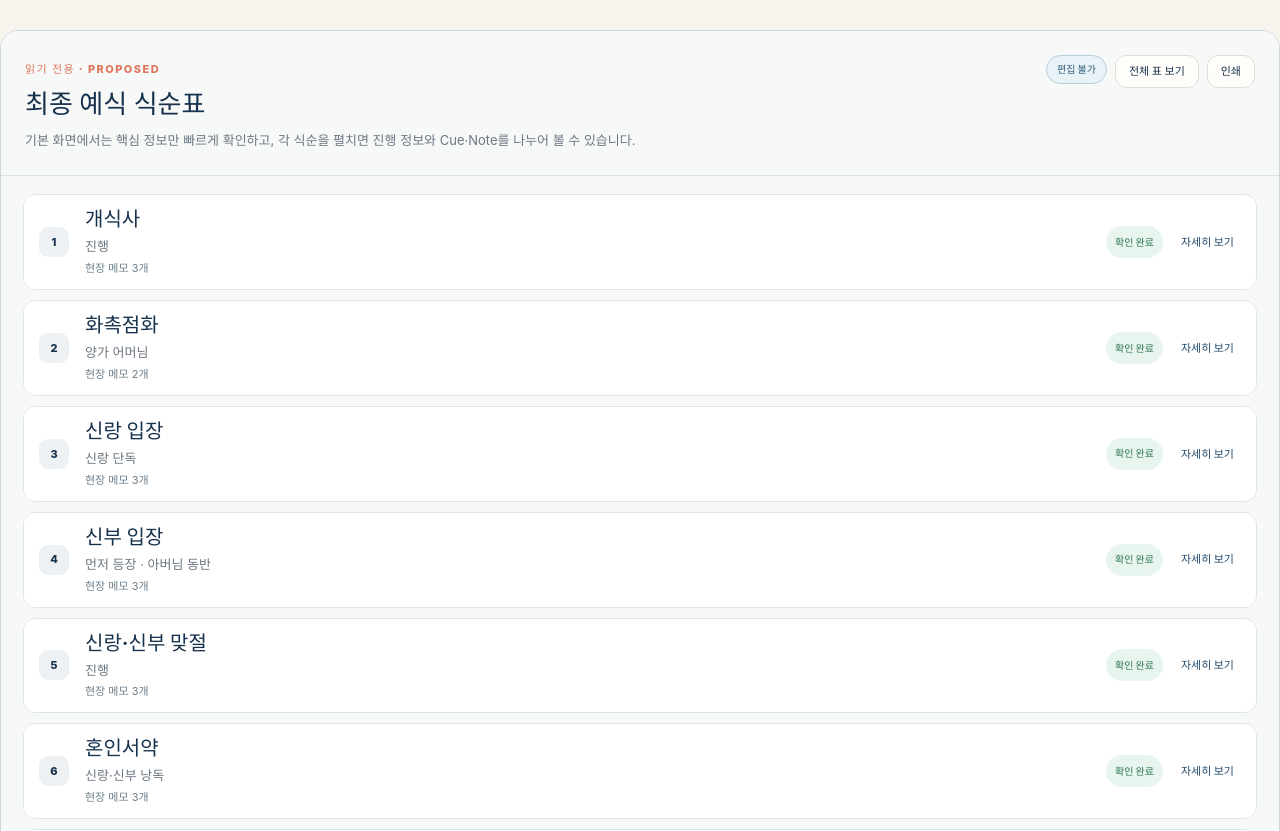
Test: FinalCeremonySheet › 혼인서약과 성혼선언의 진행 주체를 Projection과 같은 값으로 표시한다
The width and height of the screenshot is (1280, 831).
Click the button "전체 표 보기" at (1157,71), box [1115,55,1199,88]
(page scrolled)
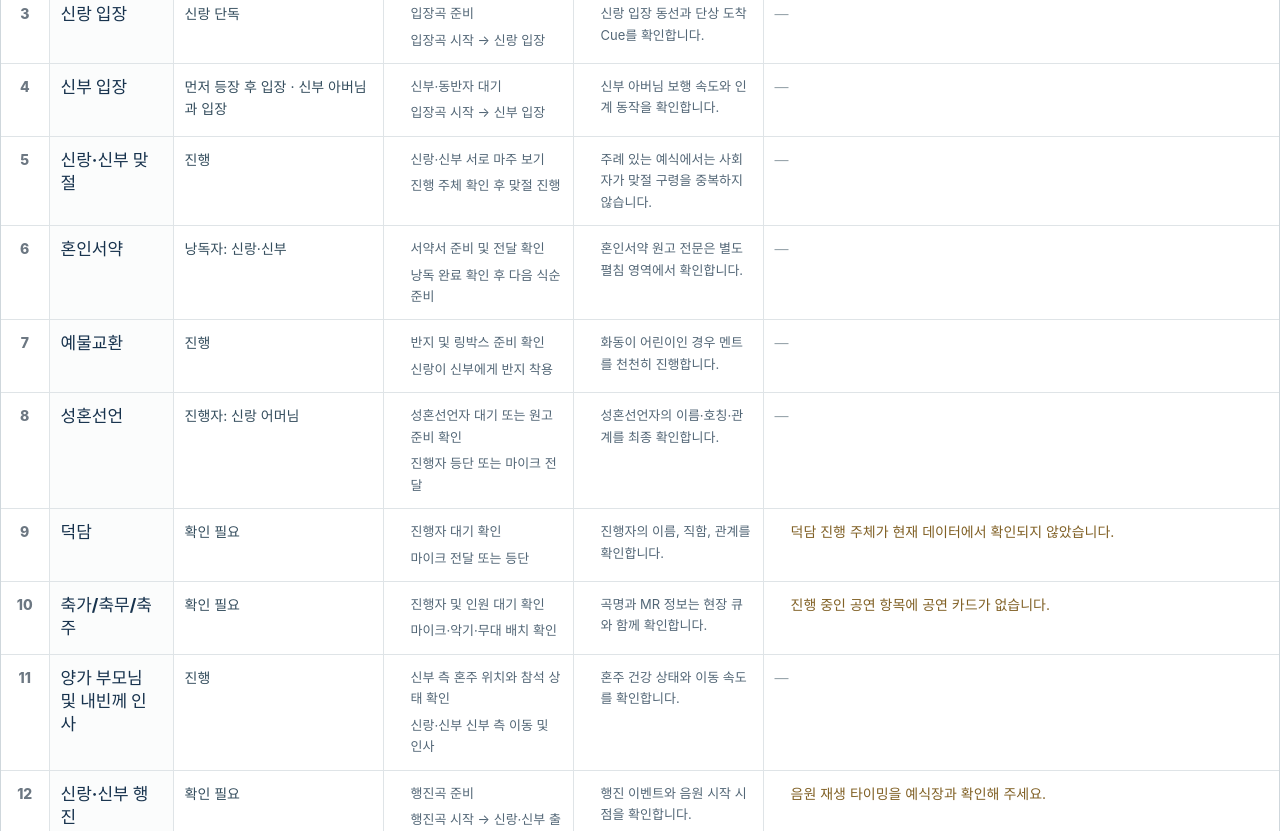
Expected: the text "낭독자: 신랑·신부" is shown, [173,226,383,320]
Expected: the text "진행자: 신랑 어머님" is shown, [173,393,383,509]
